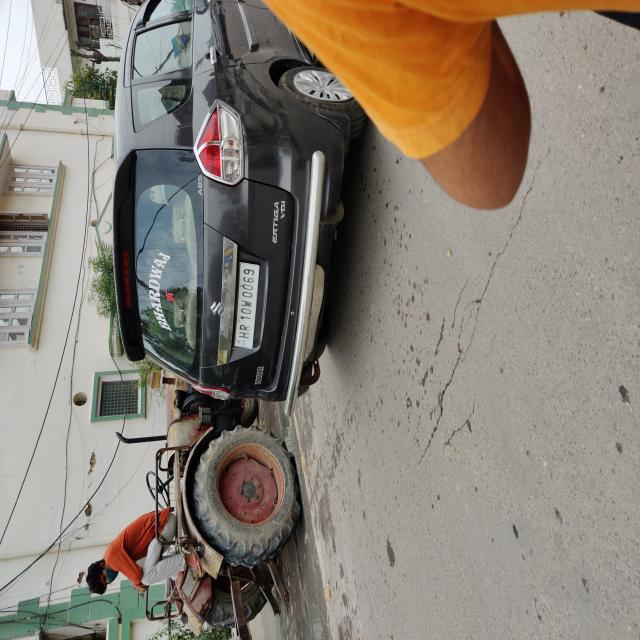Car: (169, 144, 480, 471)
Tractor: (0, 186, 166, 414)
